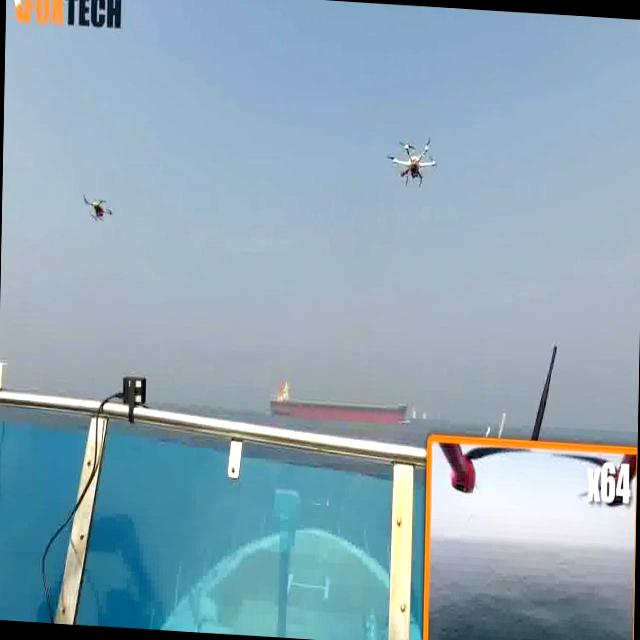drone: (384, 124, 446, 200), (79, 185, 117, 234)
